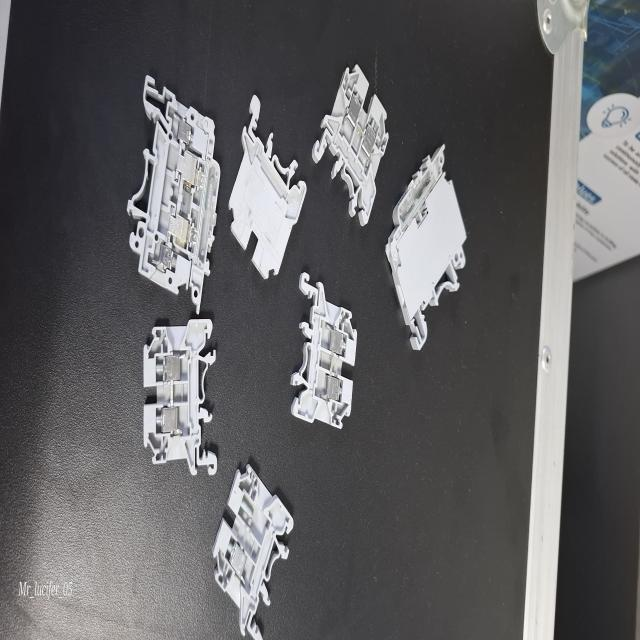Inverted: (216, 86, 306, 294), (229, 95, 306, 279)
Pass: (126, 299, 225, 488), (314, 14, 386, 229), (287, 261, 366, 448)
Reject: (209, 448, 297, 640)
